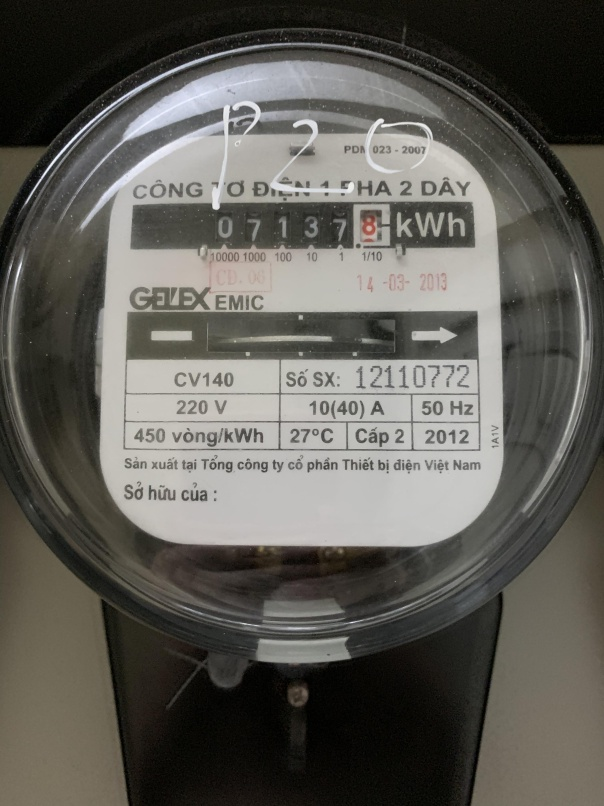counter: (131, 203, 478, 250)
electricity_meter: (2, 29, 604, 665)
